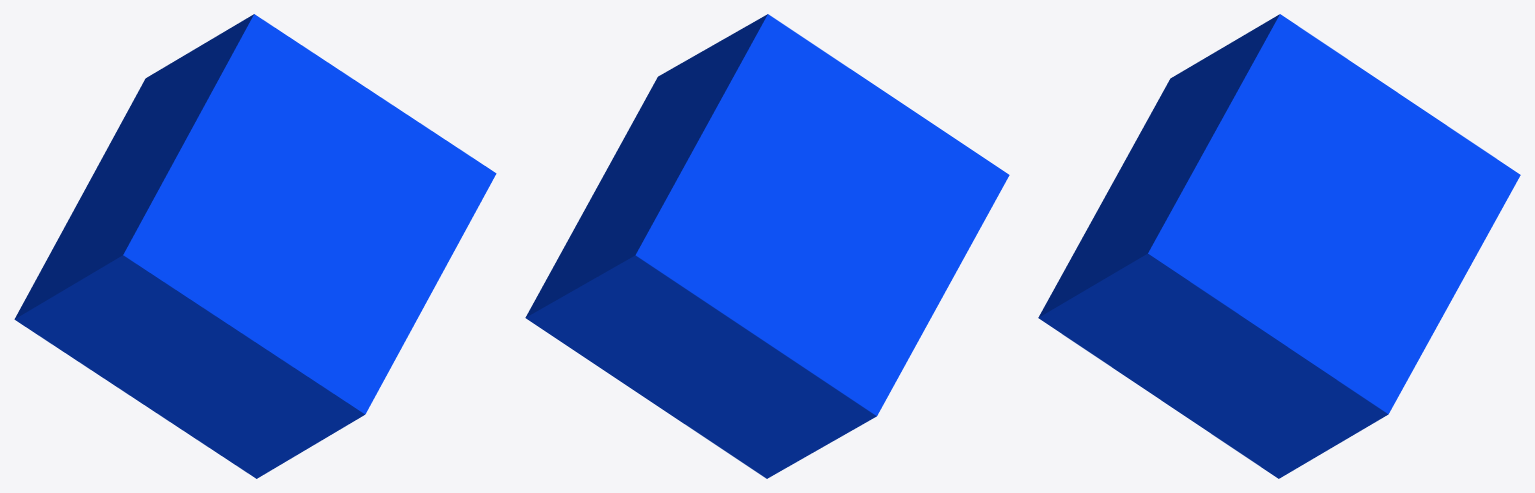
Rendered from PGD_VFX_LuBanSuo_Blue.fbx.
3 views of the same model, side by side, from view 1: azimuth 30°, elevation 25°; view 2: azimuth 150°, elevation 25°; view 3: azimuth 270°, elevation 25° (orthographic).
Visible parts, largest first — view 1: LuBanSuo_Ligth; view 2: LuBanSuo_Ligth; view 3: LuBanSuo_Ligth.
Part boxes in pixels (bbox=[...]): LuBanSuo_Ligth: bbox=[14, 14, 496, 478]; LuBanSuo_Ligth: bbox=[525, 14, 1009, 478]; LuBanSuo_Ligth: bbox=[1038, 14, 1520, 478].
Size of the model in its own units: 2.65 by 3.15 by 2.97.
